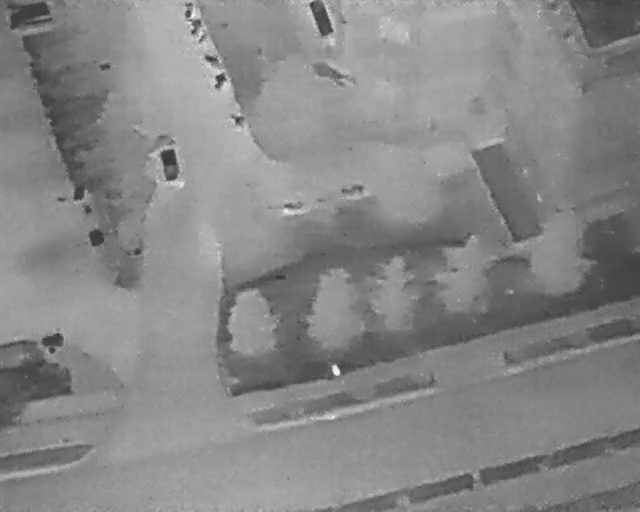Car: (149, 131, 188, 188)
